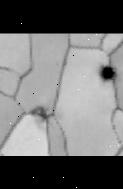good_void: (96, 64, 117, 81), (28, 106, 50, 122)
